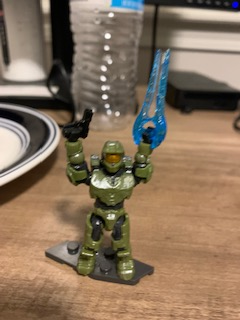chief: (61, 125, 157, 278)
pistol: (61, 109, 95, 142)
spartan: (59, 123, 155, 276)
up: (61, 120, 158, 209)
